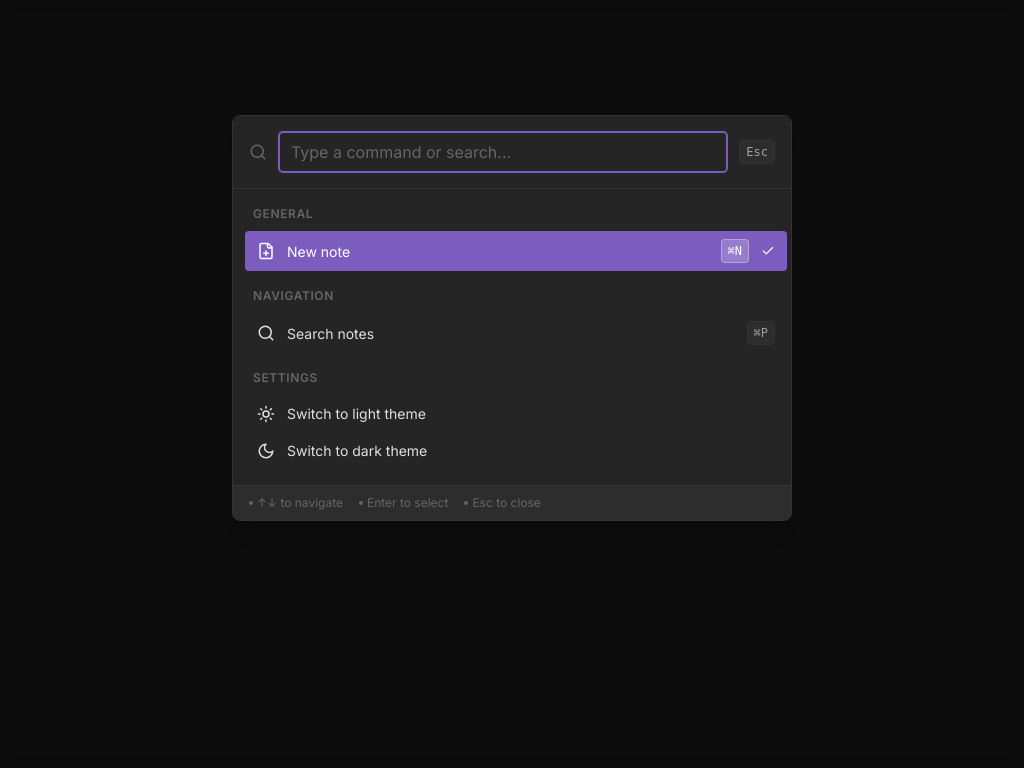
Test case: CommandPalette › should filter commands by search query
Type "theme" into the field with placeholder "Type a command or search..." at (503, 152), box [279,132,727,172]
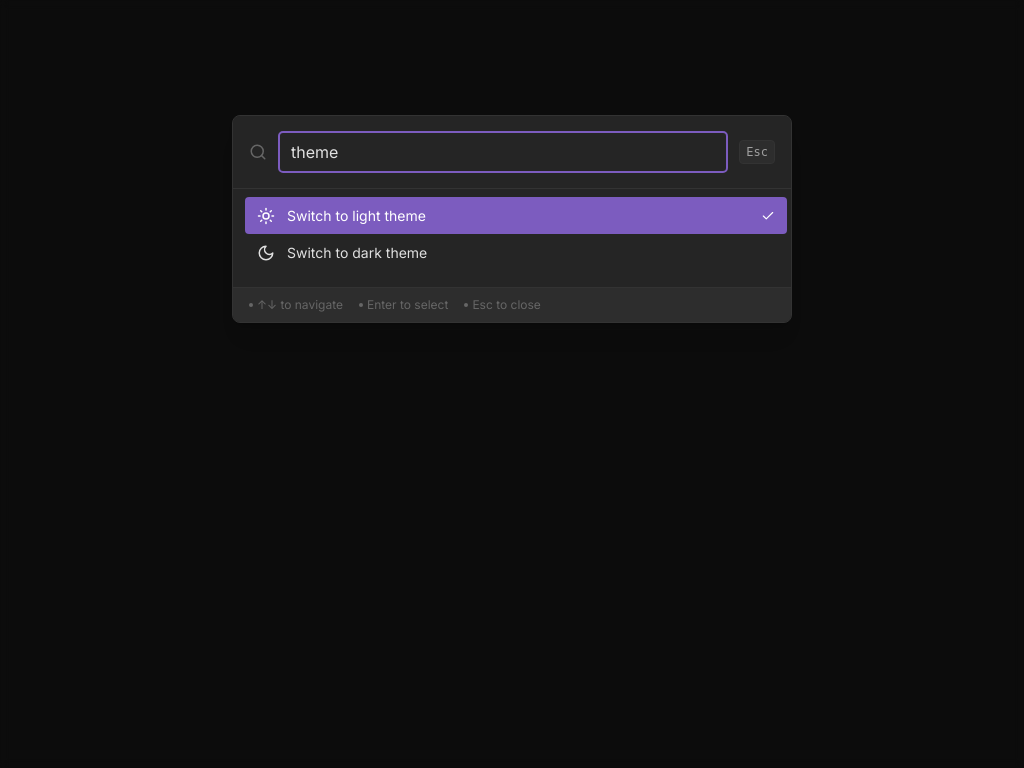
Check: the text "Switch to light theme" is shown, box [287,207,426,224]
Check: the option "New note" is gone
Check: the option "Search notes" is gone
